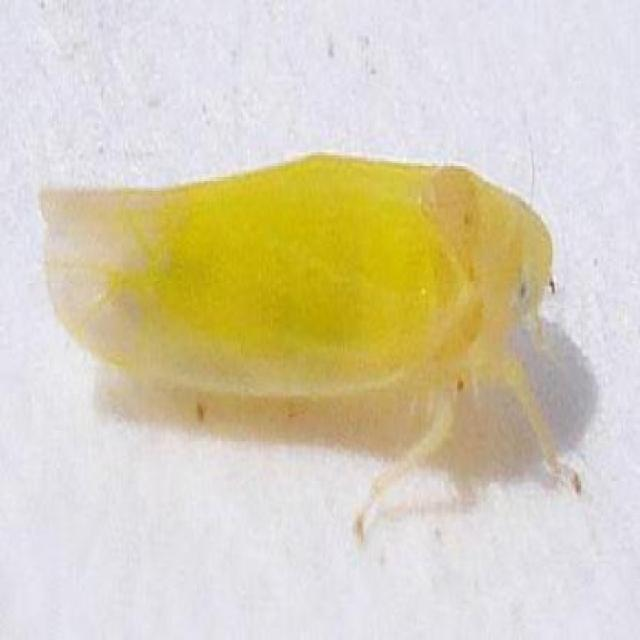green-leafhopper: (39, 153, 580, 538)
